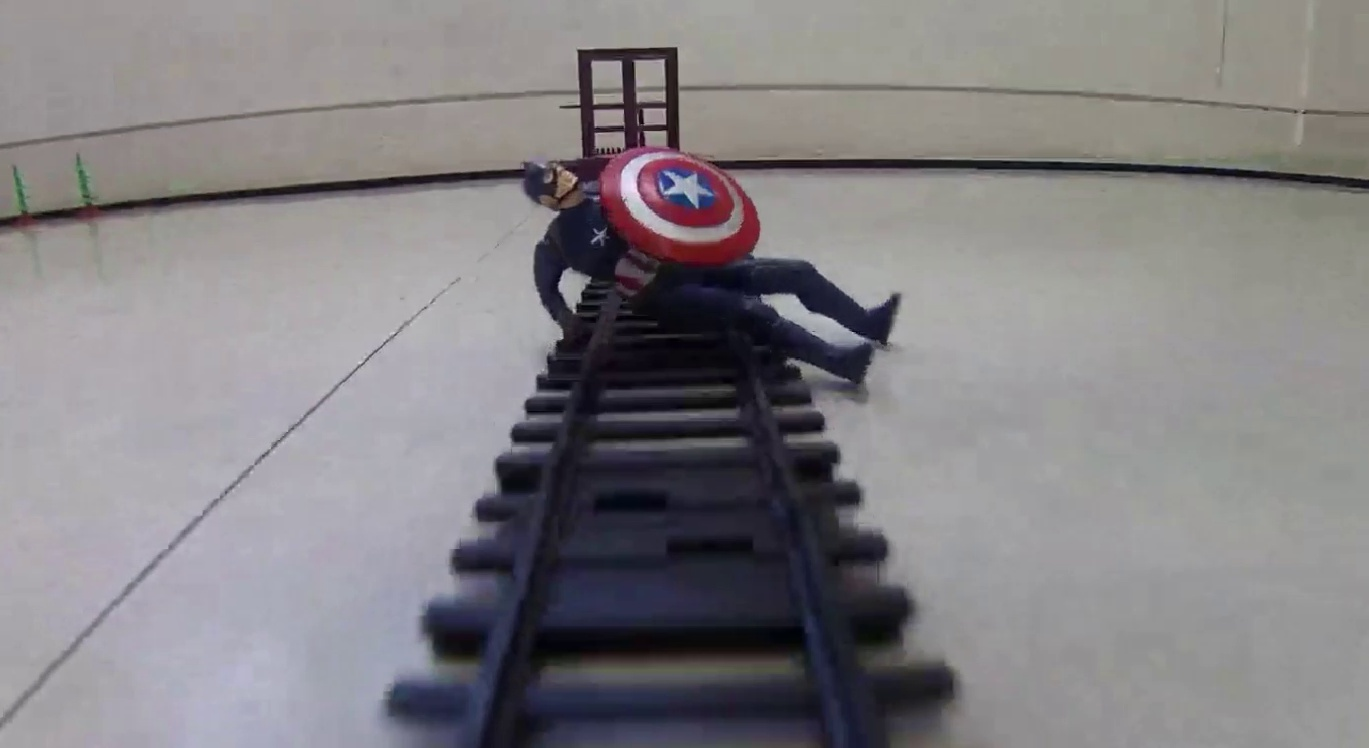people: (521, 144, 905, 384)
